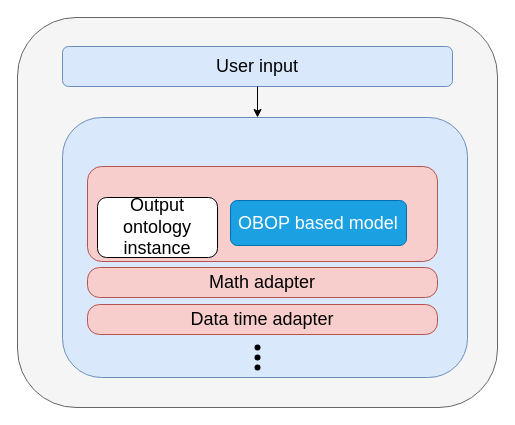
This 515x425 diagram has some shape labels left out. Here are the shapes that lost their labels. From the top down, the box of each, then its label:
(86, 166, 438, 262): Ontology based adapter
(62, 116, 468, 378): Answers considered by chatbot logical adapters
